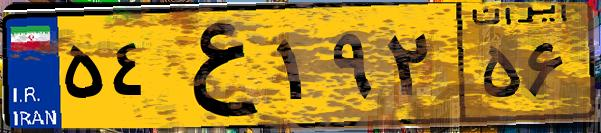1: (270, 28, 330, 110)
2: (385, 28, 445, 110)
4: (110, 28, 158, 98)
5: (57, 26, 110, 100), (475, 38, 525, 113)
6: (525, 38, 570, 115)
9: (330, 28, 385, 110)
ع: (158, 12, 270, 120)
